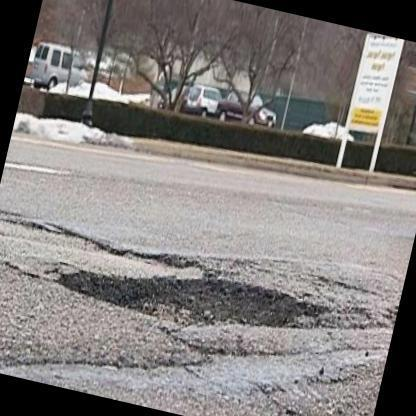pothole: (54, 268, 332, 334), (3, 213, 199, 270)
